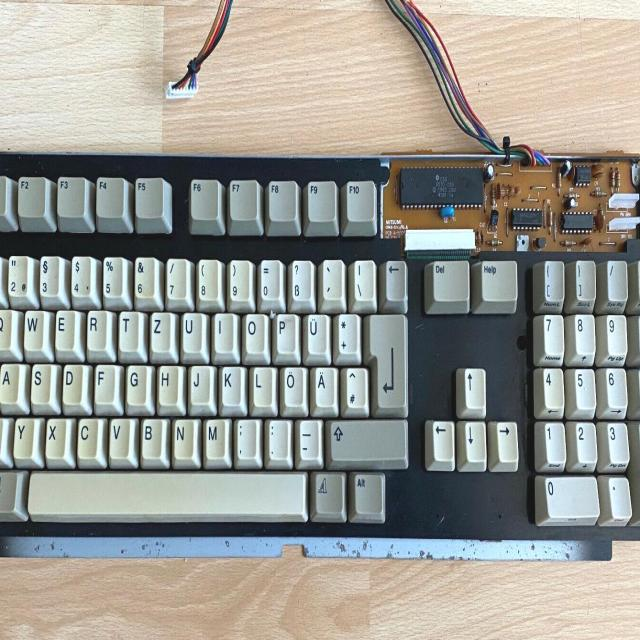0: (256, 254, 280, 299)
1: (0, 249, 11, 294)
2: (6, 251, 28, 297)
3: (37, 251, 59, 296)
4: (69, 250, 90, 296)
5: (100, 251, 122, 295)
6: (132, 251, 155, 297)
7: (164, 254, 187, 299)
8: (195, 254, 219, 300)
9: (226, 255, 250, 301)
a: (0, 358, 18, 401)
accent: (318, 254, 343, 299)
ae: (311, 361, 334, 406)
alt-left: (0, 467, 16, 512)
altgr-right: (352, 473, 385, 518)
b: (138, 412, 162, 455)
c: (74, 412, 97, 456)
comma: (233, 414, 257, 459)
d: (61, 359, 82, 402)
del: (383, 258, 408, 303)
e: (53, 304, 74, 347)
enter: (365, 305, 406, 408)
f: (92, 359, 114, 401)
g: (123, 358, 146, 403)
h: (155, 360, 178, 403)
hash: (340, 362, 366, 408)
i: (211, 308, 232, 349)
j: (187, 359, 210, 403)
k: (219, 360, 241, 403)
keyboard: (0, 141, 640, 547)
l: (250, 361, 272, 405)
less: (0, 412, 11, 456)
m: (202, 413, 225, 457)
minus: (295, 414, 319, 459)
n: (171, 413, 194, 457)
o: (241, 308, 265, 351)
oe: (279, 360, 303, 405)
p: (272, 308, 296, 352)
plus: (332, 308, 357, 355)
point: (264, 414, 288, 459)
q: (0, 303, 11, 348)
r: (84, 304, 106, 348)
s: (28, 358, 50, 401)
shift-left: (0, 412, 24, 456)
shift-lock: (0, 358, 12, 405)
shift-right: (326, 414, 406, 460)
space: (22, 465, 310, 519)
ss: (287, 254, 312, 301)
strg-left: (0, 360, 17, 407)
t: (116, 305, 138, 348)
tab: (0, 304, 27, 349)
u: (180, 307, 202, 350)
ue: (303, 308, 326, 353)
v: (107, 412, 129, 455)
w: (21, 304, 43, 348)
x: (43, 412, 65, 455)
y: (11, 413, 33, 455)
z: (148, 306, 170, 350)
